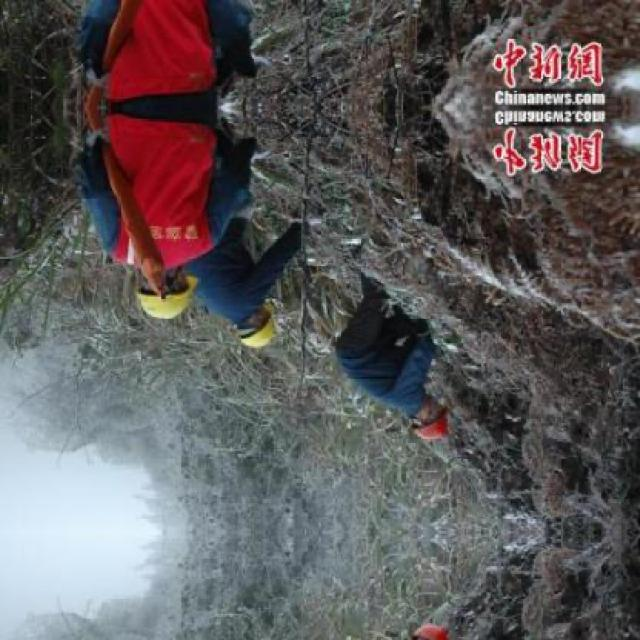con casco: (124, 244, 205, 336), (393, 375, 472, 447)
